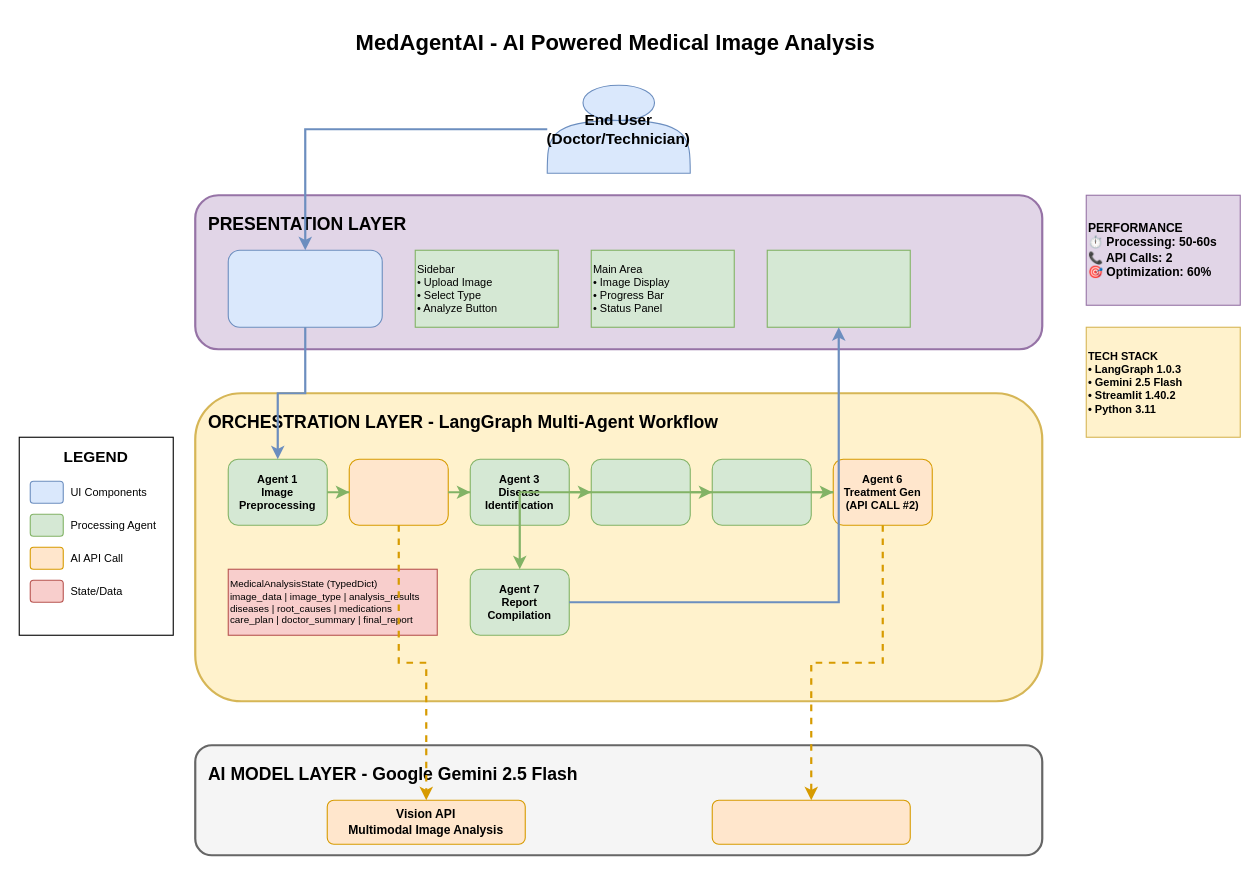
This 1260x875 diagram has some shape labels left out. Each missing label, with the centre of its shape:
Agent 2 Vision Analysis (API CALL #1): the point at 398,491
Agent 4 Root Cause Analysis: the point at 640,491
Agent 5 Medication Orchestration: the point at 761,491
Result Tabs (4) • Full Report • Medications • Care Plan • Doctor Summary: the point at 838,288
Streamlit Web App (app.py): the point at 304,288
Text API Treatment Generation: the point at 810,821
